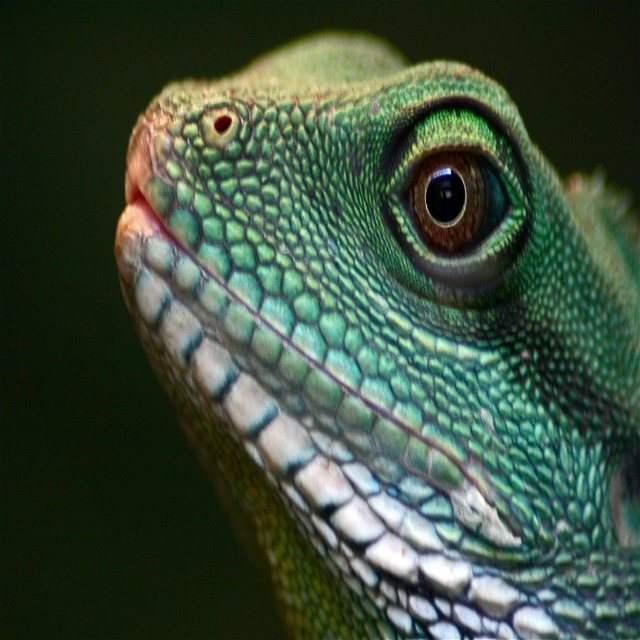Lizard: (87, 20, 640, 633)
